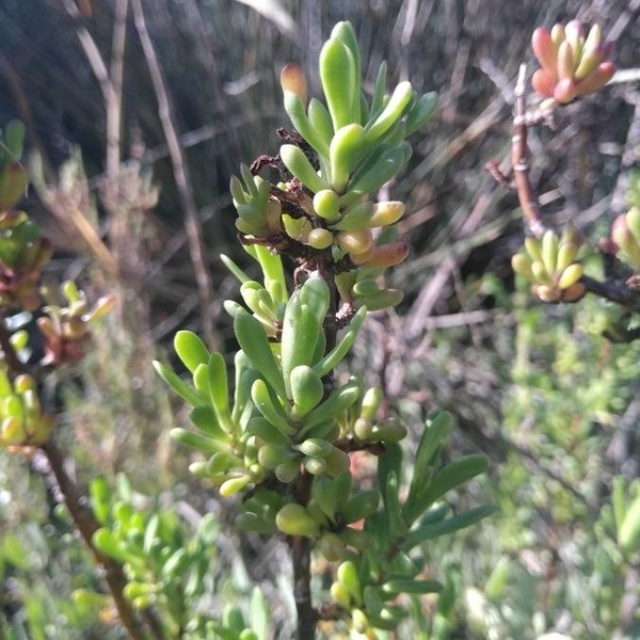obstacle: (179, 41, 399, 553)
